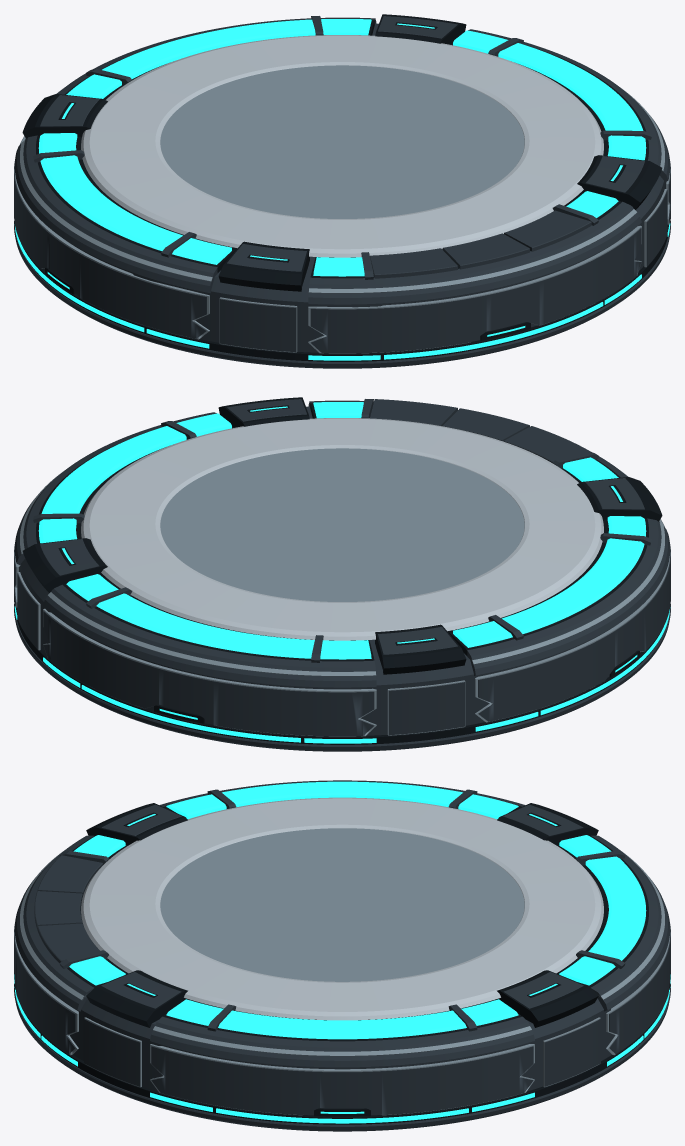
Rendered from Blocker.fbx.
The picture shows the model from 3 angles, top to bottom: view 1: azimuth 30°, elevation 25°; view 2: azimuth 150°, elevation 25°; view 3: azimuth 270°, elevation 25°; orthographic projection.
Visible parts, largest first — view 1: SM_Puck_Blocker_HighDetail; view 2: SM_Puck_Blocker_HighDetail; view 3: SM_Puck_Blocker_HighDetail.
Part boxes in pixels (x1,y1,x2,y2): SM_Puck_Blocker_HighDetail: (14, 14, 670, 368); SM_Puck_Blocker_HighDetail: (14, 397, 670, 751); SM_Puck_Blocker_HighDetail: (14, 780, 670, 1131).
Bounding box in the file's own units: 106 × 106 × 16.5.
